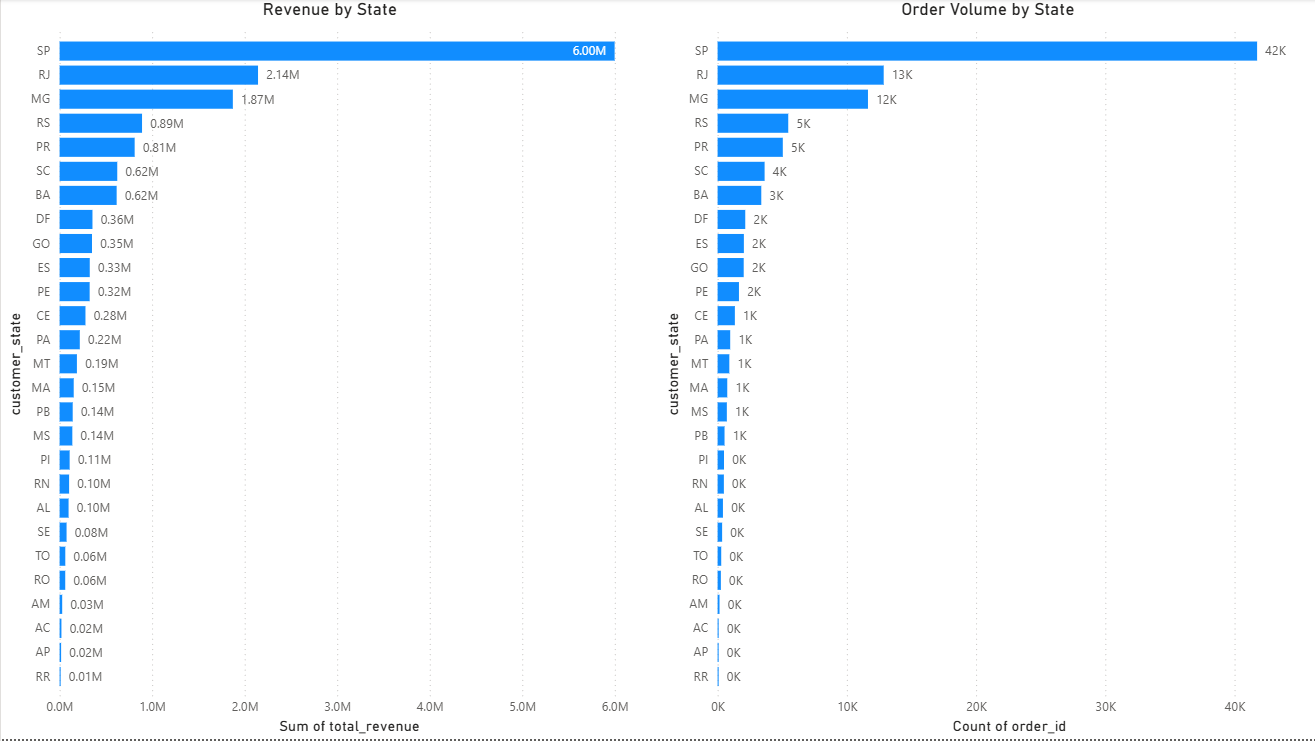

The dashboard page shown, as its layout file describes it:
{"tool":"powerbi","page":{"name":"Geographic Performance","canvas":[1280,720],"ordinal":1},"visuals":[{"type":"clusteredBarChart","title":"Revenue by State","fields":{"Category":["public revenue_by_state.customer_state"],"Y":["Sum(public revenue_by_state.total_revenue)"]},"box":[0,0,640,719.8],"z":0},{"type":"clusteredBarChart","title":"Order Volume by State","fields":{"Category":["public orders_basic.customer_state"],"Y":["CountNonNull(public orders_basic.order_id)"]},"box":[640,0,640,719.8],"z":1}]}

Visuals, with their boxes in screenshot pixels (x1, y1, x2, y2), scaled from the page's 1280x720 canvas onto the 1315x741 screenshot:
"Revenue by State" clusteredBarChart: (x1=0, y1=0, x2=658, y2=740)
"Order Volume by State" clusteredBarChart: (x1=658, y1=0, x2=1314, y2=740)
